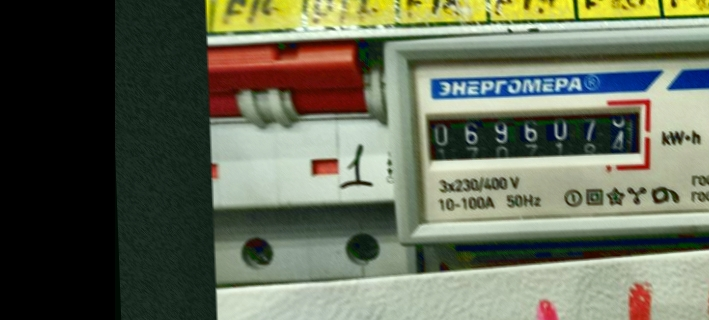0: (432, 121, 450, 145), (552, 114, 568, 140)
4: (609, 127, 626, 152)
6: (462, 119, 480, 144), (522, 116, 540, 141)
7: (582, 115, 598, 142)
9: (492, 118, 509, 143)
screen: (412, 91, 657, 174)
